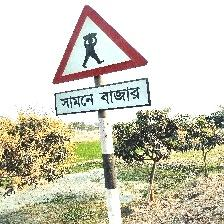Market-in-front: (52, 4, 151, 117)
